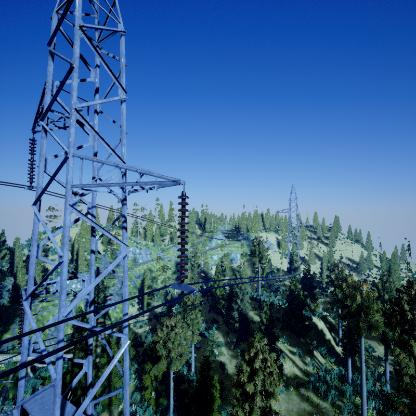insulator: (174, 191, 190, 284), (27, 137, 39, 189)
